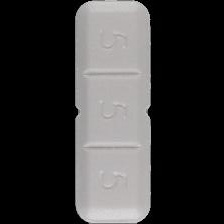33261-015: (0, 0, 224, 224)
